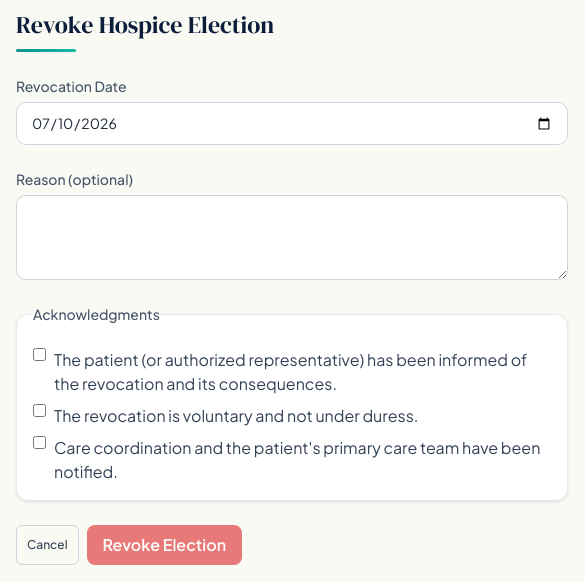
Test: HospiceRevocation › disables submit until all three checkboxes are checked
Check: the button "Revoke Election" is disabled, box x1=86 y1=525 x2=242 y2=565
Click the 1st checkbox at (40, 354), box x1=33 y1=348 x2=46 y2=361
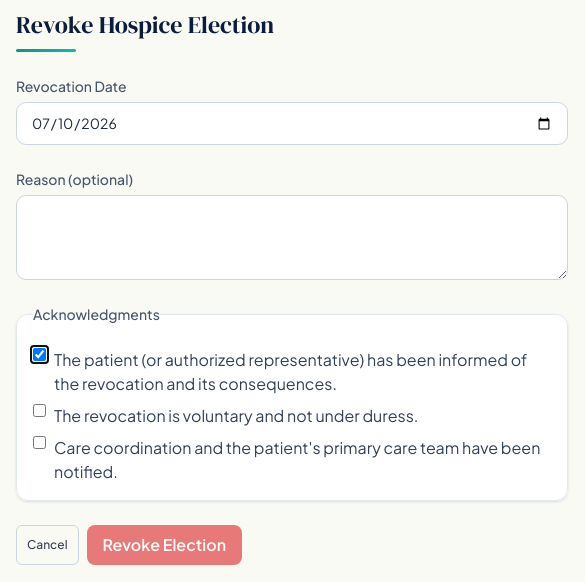
Check: the button "Revoke Election" is disabled, box x1=86 y1=525 x2=242 y2=565
Click the checkbox labelled "The revocation is voluntary and not under duress." at (40, 410), box x1=33 y1=404 x2=46 y2=417
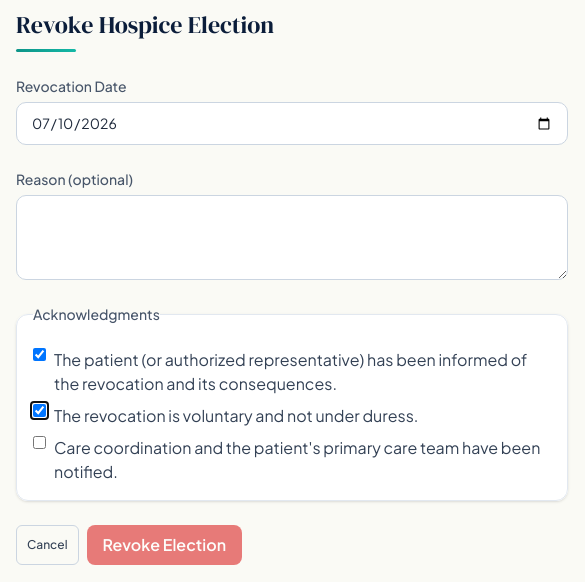
Check: the button "Revoke Election" is disabled, box x1=86 y1=525 x2=242 y2=565
Click the 3rd checkbox at (40, 442), box x1=33 y1=436 x2=46 y2=449
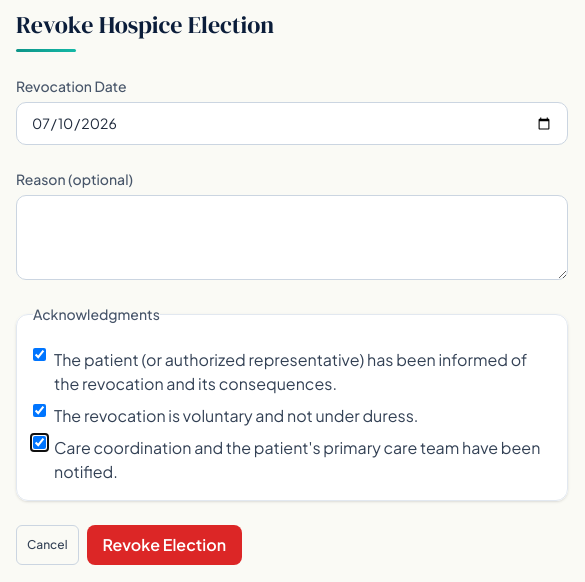
Check: the button "Revoke Election" is enabled, box x1=86 y1=525 x2=242 y2=565
